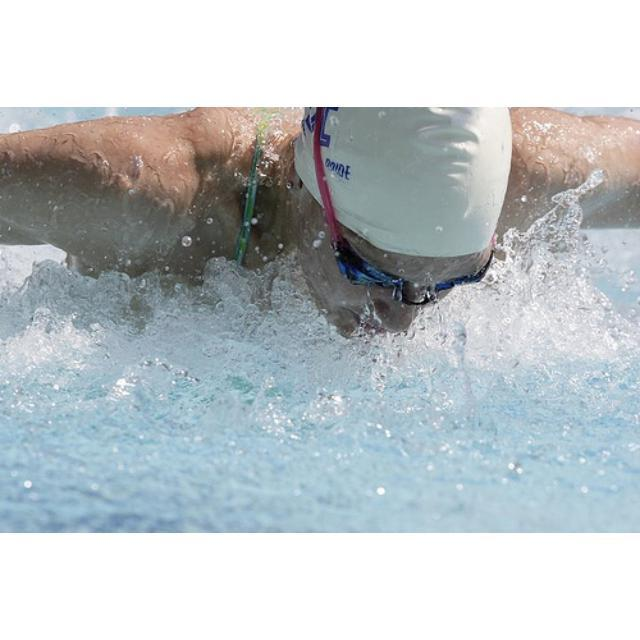human: (3, 109, 639, 343)
